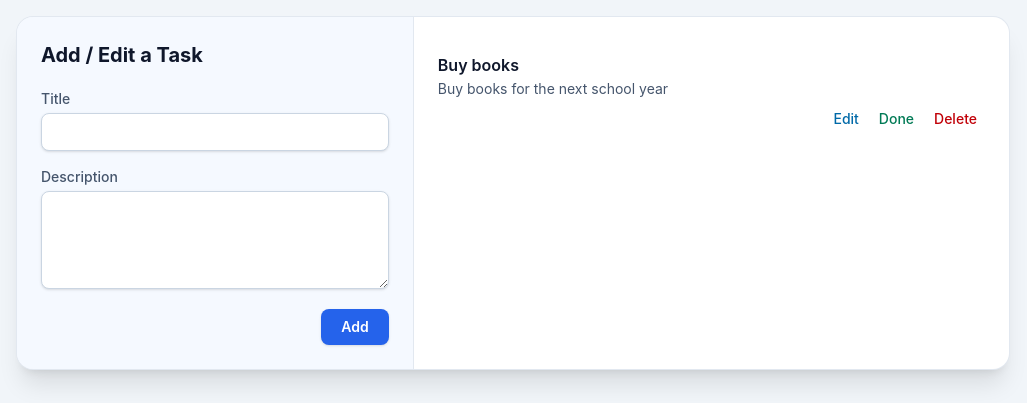
Test: App › cancelling an edit returns the form to create mode
What coordinates should you click on to do the following:
click the button with aria-label "edit buy books"
I would click on:
 (846, 119)
Its box is x1=825 y1=105 x2=867 y2=133.
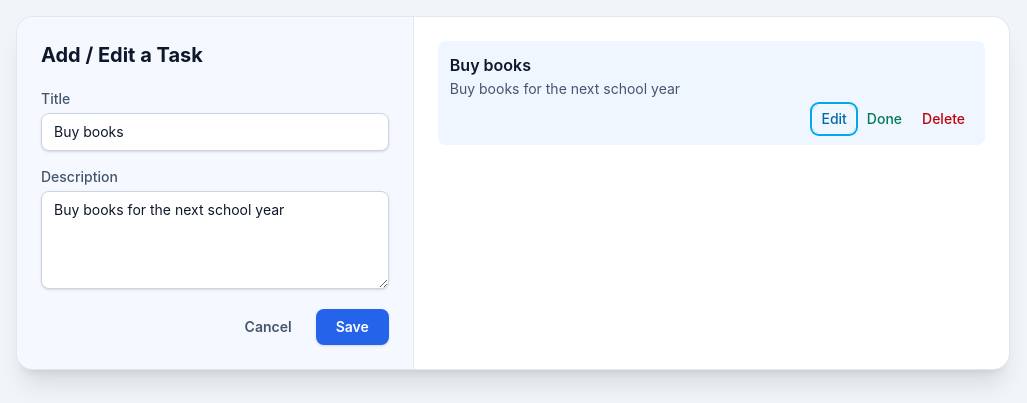
What coordinates should you click on to do the following:
click the button "Cancel"
I would click on:
 (268, 327)
Its box is x1=229 y1=309 x2=308 y2=345.
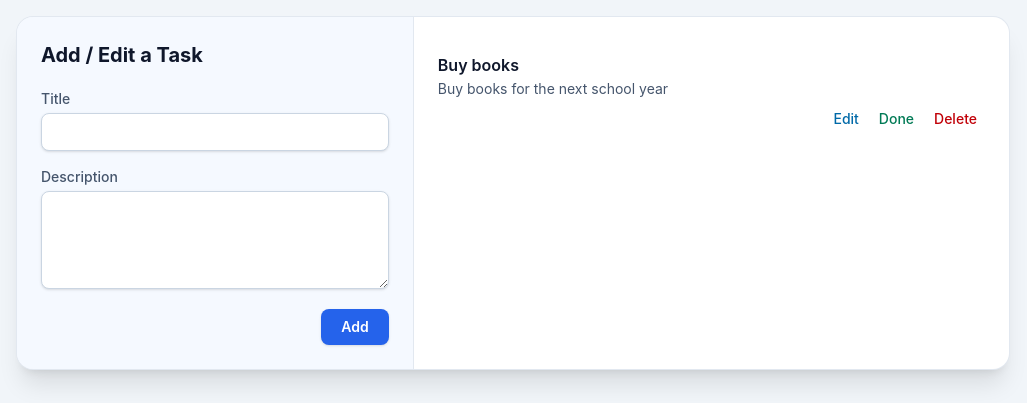
Expected: the button "Add" is shown, x1=321 y1=309 x2=389 y2=345
